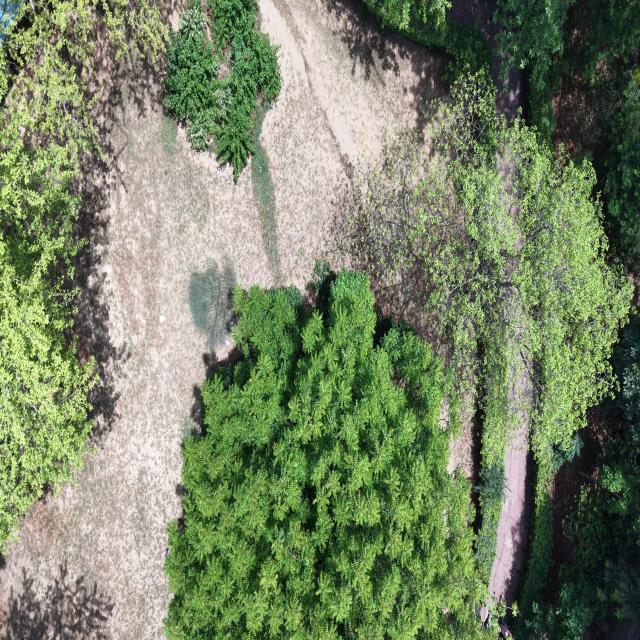DRY_AREA: (0, 0, 447, 639), (0, 95, 270, 639), (260, 0, 448, 281), (261, 0, 447, 171), (260, 0, 444, 163), (261, 0, 435, 160), (261, 0, 397, 160), (261, 0, 386, 157), (481, 297, 535, 623), (481, 350, 533, 622), (481, 355, 532, 621), (488, 353, 533, 606), (489, 362, 533, 607), (448, 0, 525, 121), (488, 407, 532, 605), (488, 415, 531, 605), (489, 427, 531, 605), (489, 431, 530, 602), (553, 75, 616, 158), (448, 389, 479, 484), (612, 621, 639, 639)
PATHWAYS: (489, 407, 531, 605)
VEGETATION_TREE: (165, 0, 639, 639), (353, 73, 632, 530), (165, 271, 483, 639), (354, 73, 631, 446), (0, 0, 163, 550), (519, 317, 639, 639), (496, 0, 639, 267), (518, 321, 637, 638), (0, 156, 95, 549), (0, 0, 164, 172), (518, 402, 637, 638), (551, 2, 639, 268), (165, 0, 280, 180), (519, 467, 639, 639), (495, 0, 639, 138), (553, 62, 639, 270), (494, 0, 573, 140), (363, 0, 491, 80), (496, 0, 574, 88), (606, 70, 639, 264), (561, 0, 639, 77), (252, 106, 281, 282), (604, 316, 639, 445), (188, 262, 235, 352), (476, 455, 505, 581), (598, 558, 639, 621), (366, 0, 451, 30)
